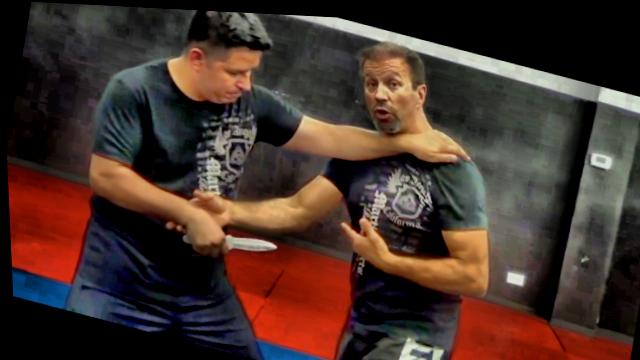knife: (176, 213, 279, 269)
